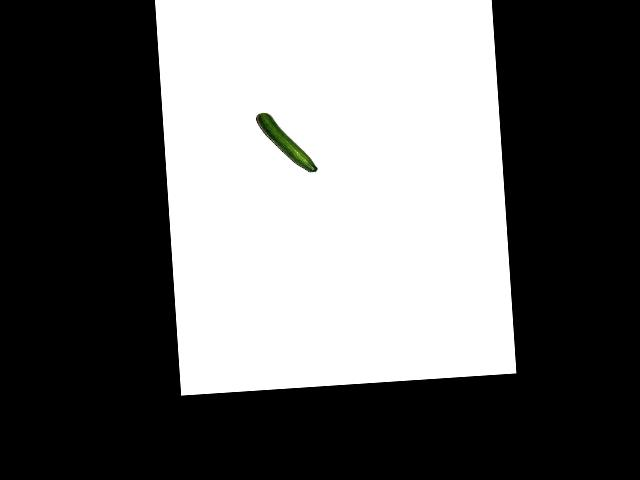cucumber: (255, 109, 317, 175)
